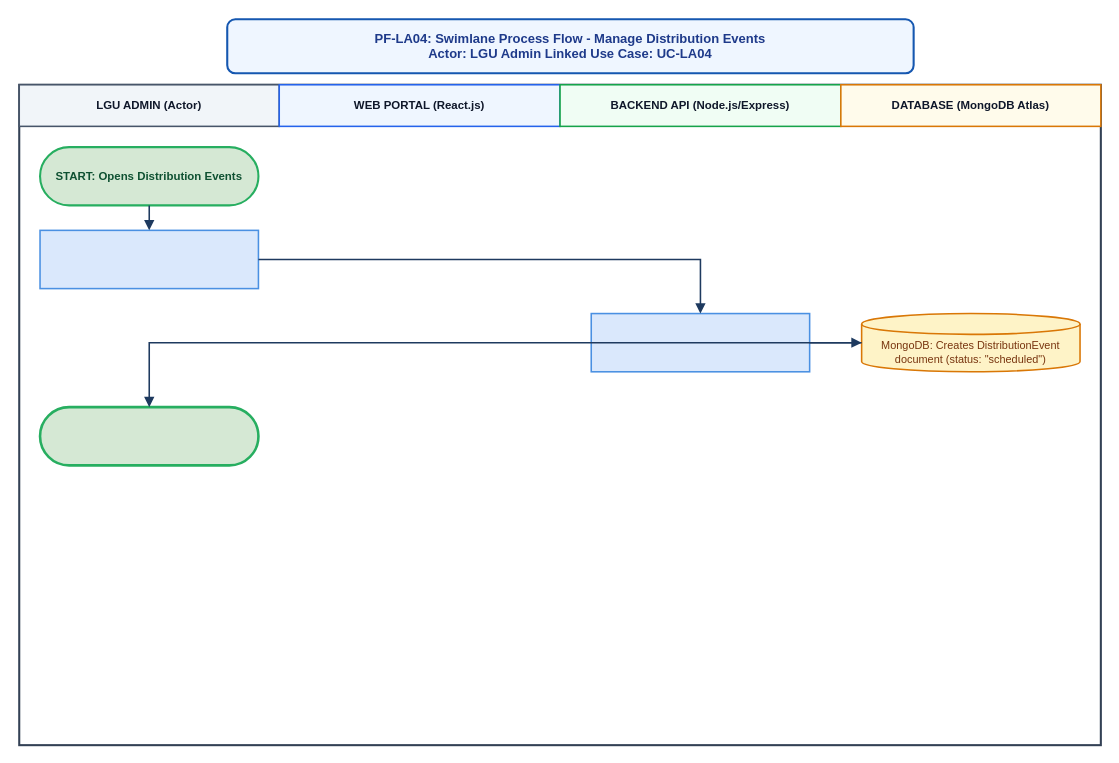
The diagram is 1119 pixels wide and 763 high, and some of its shapes have lost their labels. Each missing label, with the centre of its shape:
"END: Event active for QR scanning (PF-FS02)" goes at point 148,435.
"POST /api/distributions/events Publishes event announcement" goes at point 700,342.
"Sets Title, Date/Time, Venue, Target Barangay(s), Quota, & Staff Teams" goes at point 149,259.
